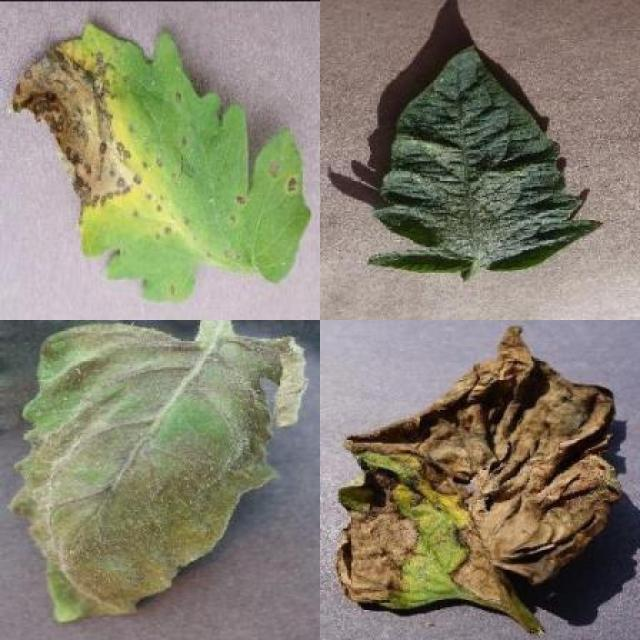Late Blight: (3, 320, 310, 623), (333, 325, 624, 612)
Septoria: (8, 25, 312, 299)
Spider Mites: (368, 45, 603, 275)
